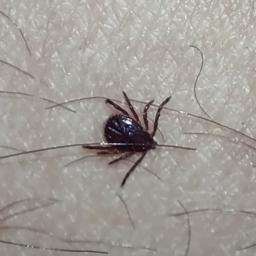Rhipicephalus sanguineus: (81, 90, 173, 188)
